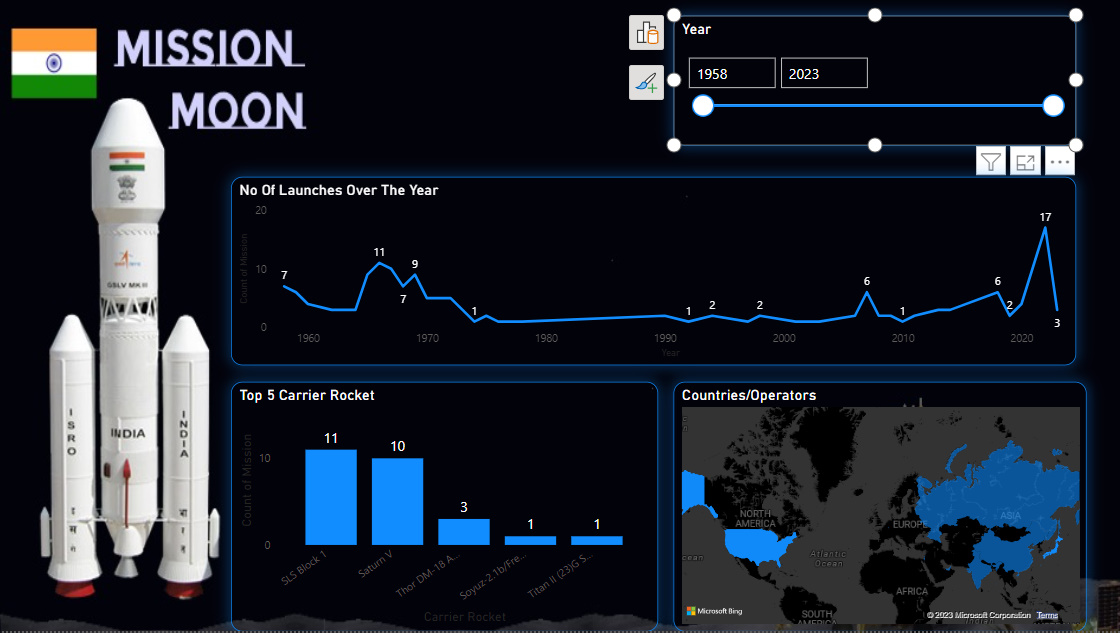

The page's visual inventory and layout, read from the dashboard file:
{"tool":"powerbi","page":{"name":"DB2","canvas":[1280,720],"ordinal":1},"visuals":[{"type":"slicer","title":"Year","fields":{"Values":["Data set Part 1 - Moonlanding.Launch Date.Variation.Date Hierarchy.Year"]},"box":[769.6,19.5,458.3,148.2],"z":0},{"type":"columnChart","title":"Top 5 Carrier Rocket","fields":{"Category":["Data set Part 1 - Moonlanding.Carrier Rocket"],"Y":["CountNonNull(Data set Part 1 - Moonlanding.Mission)"]},"box":[267.6,436.5,485.9,283.7],"z":1000},{"type":"filledMap","title":"Countries/Operators","fields":{"Category":["Data set Part 1 - Moonlanding.Operator"]},"box":[769.6,436.5,469.8,283.7],"z":2000},{"type":"lineChart","title":"No Of Launches Over The Year","fields":{"Category":["Data set Part 1 - Moonlanding.Launch Date.Variation.Date Hierarchy.Year"],"Y":["CountNonNull(Data set Part 1 - Moonlanding.Mission)"]},"box":[267.1,203.2,960.6,214.6],"z":3000}]}

Visuals, with their boxes in screenshot pixels (x1, y1, x2, y2), scaled from the page's 1280x720 canvas onto the 1120x633 screenshot:
"Year" slicer: [673,17,1074,147]
"Top 5 Carrier Rocket" columnChart: [234,384,659,632]
"Countries/Operators" filledMap: [673,384,1084,632]
"No Of Launches Over The Year" lineChart: [234,179,1074,367]
